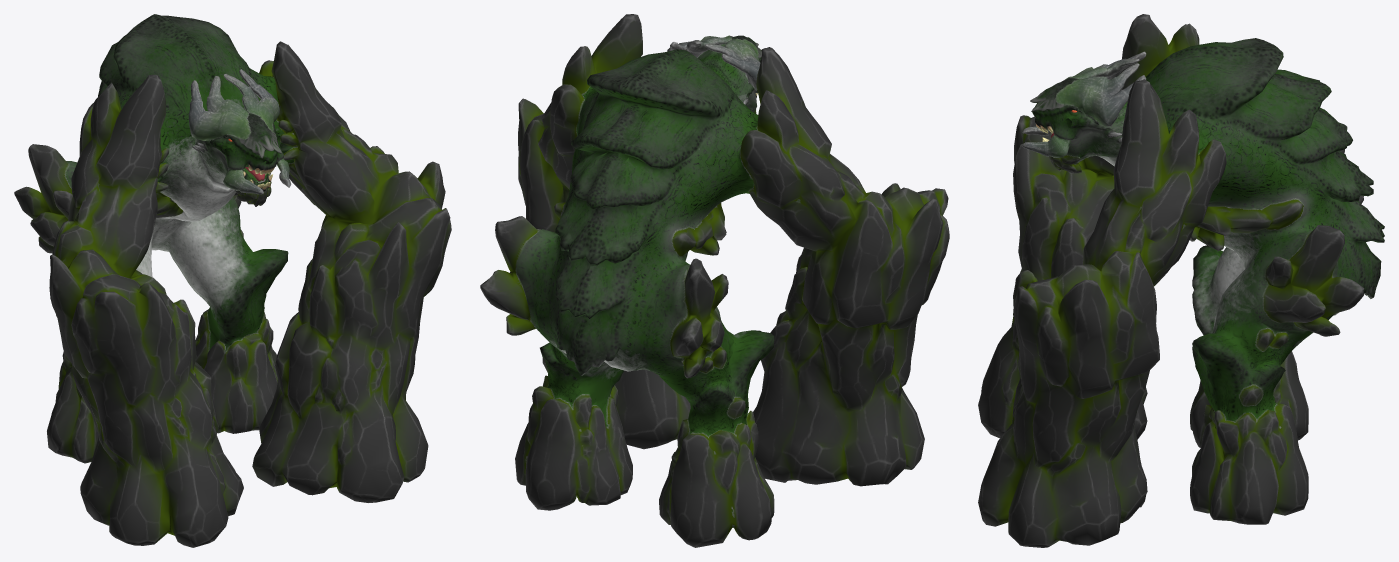
The model's file is Enemy_Elemental.fbx.
The picture shows the model from 3 angles, left to right: view 1: azimuth 30°, elevation 25°; view 2: azimuth 150°, elevation 25°; view 3: azimuth 270°, elevation 25°; orthographic projection. The views are drawn at different scales.
Parts seen in each view (by area): view 1: Elemental; view 2: Elemental; view 3: Elemental.
Part boxes in pixels (left/top/right/bottom): Elemental: left=14, top=14, right=451, bottom=547; Elemental: left=480, top=14, right=949, bottom=547; Elemental: left=978, top=14, right=1384, bottom=547.
Size of the model in its own units: 279 by 280 by 241.
3 materials, 1 textured.
